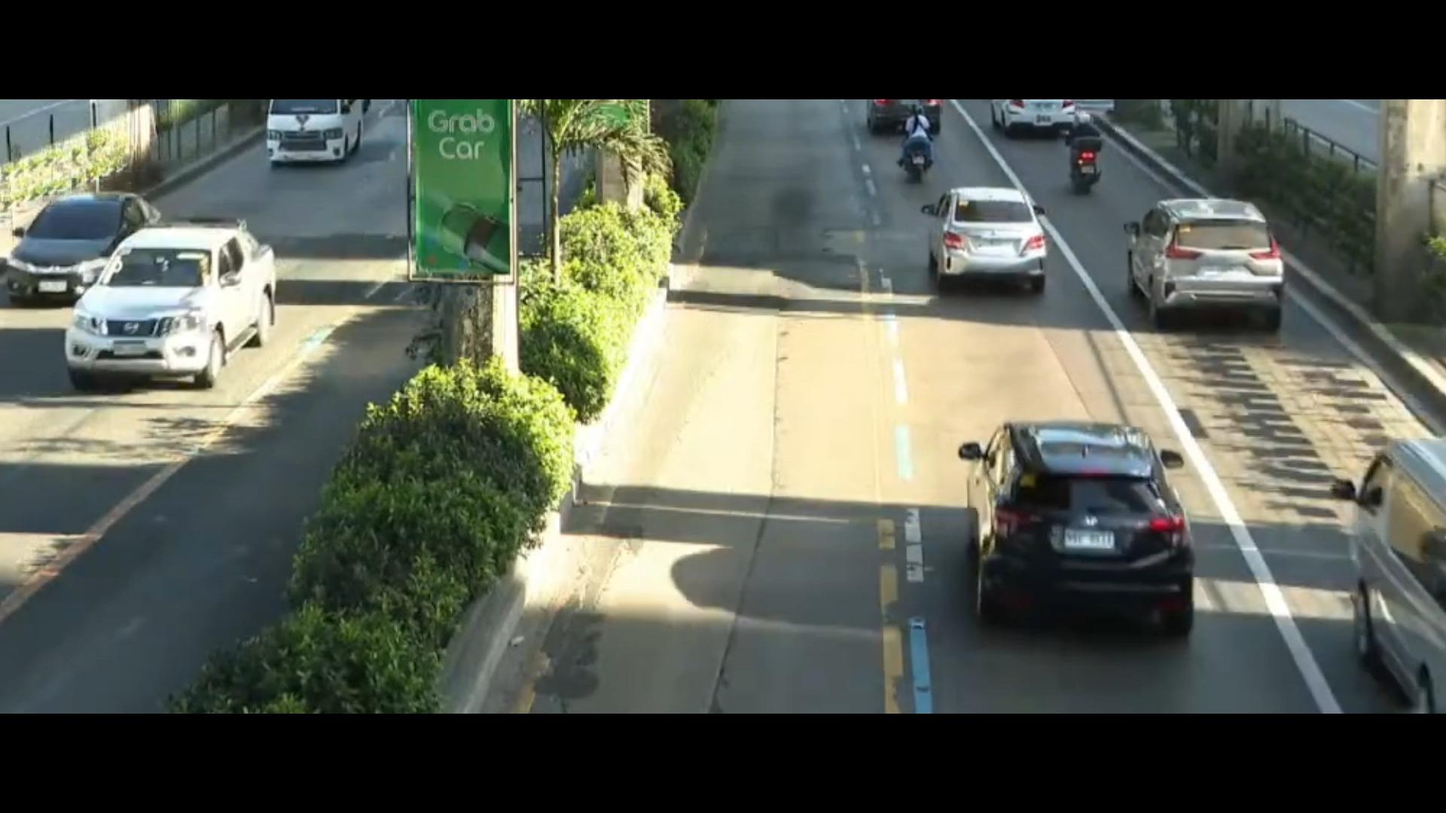Motorcycle: (872, 102, 953, 178), (1045, 119, 1128, 191)
Pickup: (57, 192, 315, 399)
SUV: (952, 415, 1204, 643), (1126, 179, 1316, 339)
Sedan: (0, 177, 174, 312), (914, 160, 1051, 303)
Truck: (260, 102, 375, 168)
Van: (1298, 377, 1446, 715)
